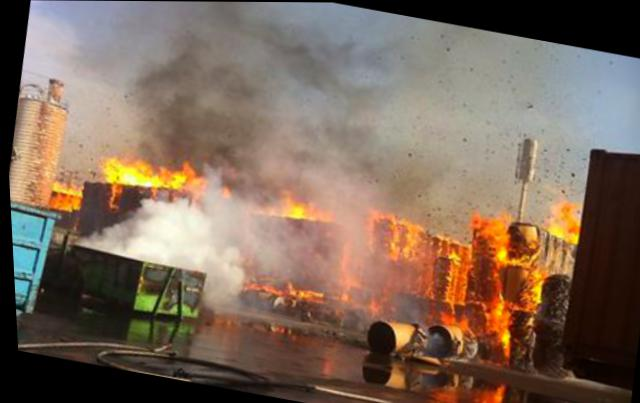fire: (360, 209, 468, 275), (101, 156, 189, 195), (472, 293, 518, 351), (245, 274, 322, 300), (545, 200, 580, 234), (488, 247, 516, 265)
smoke: (253, 1, 447, 217), (124, 1, 288, 169), (416, 24, 508, 213), (76, 183, 241, 272), (475, 32, 541, 211), (511, 39, 572, 220), (64, 0, 158, 94), (251, 214, 328, 283), (23, 14, 77, 77), (200, 269, 235, 313)
